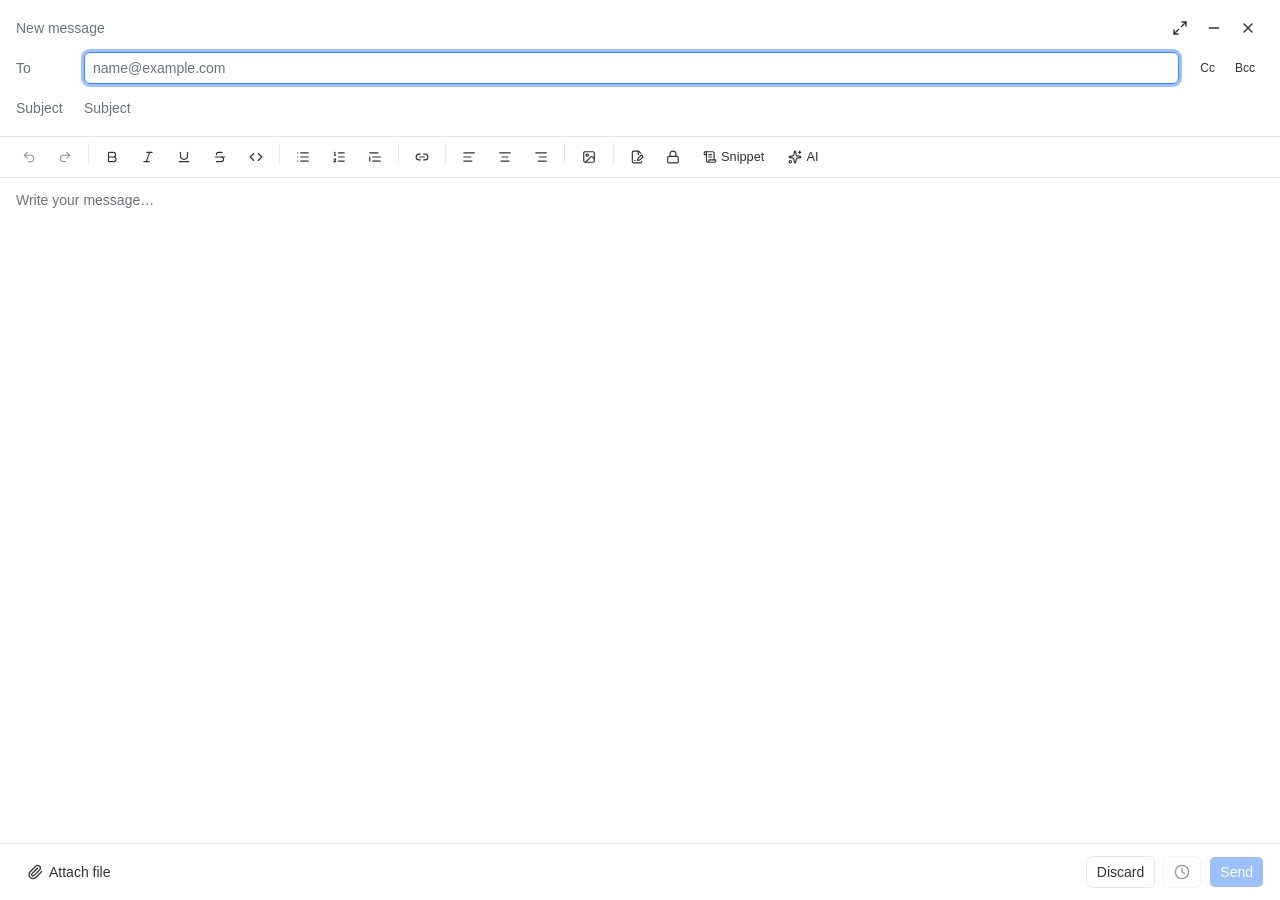
Composer text transform (task 4.6) › shows the AI menu with the three modes when configured and enabled
This screenshot has width=1280, height=900.
Click the button with aria-label "AI transform": [803, 157] box [777, 143, 830, 171]
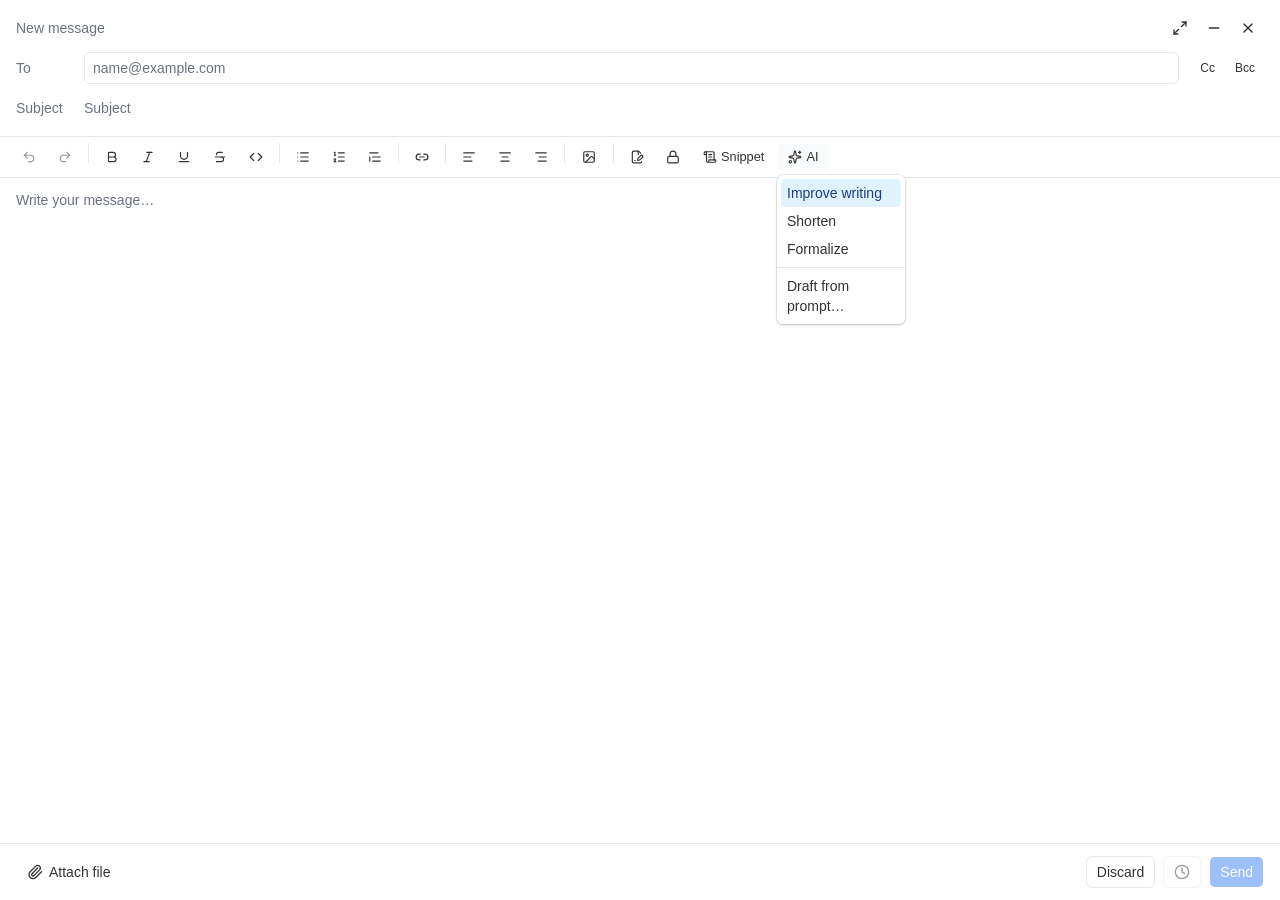
Expected: the menu with test id "compose-transform-menu" is shown, [777, 175, 905, 324]
